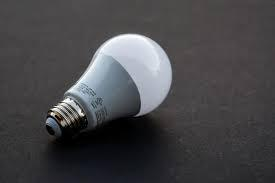Lamp: (33, 30, 180, 142)
